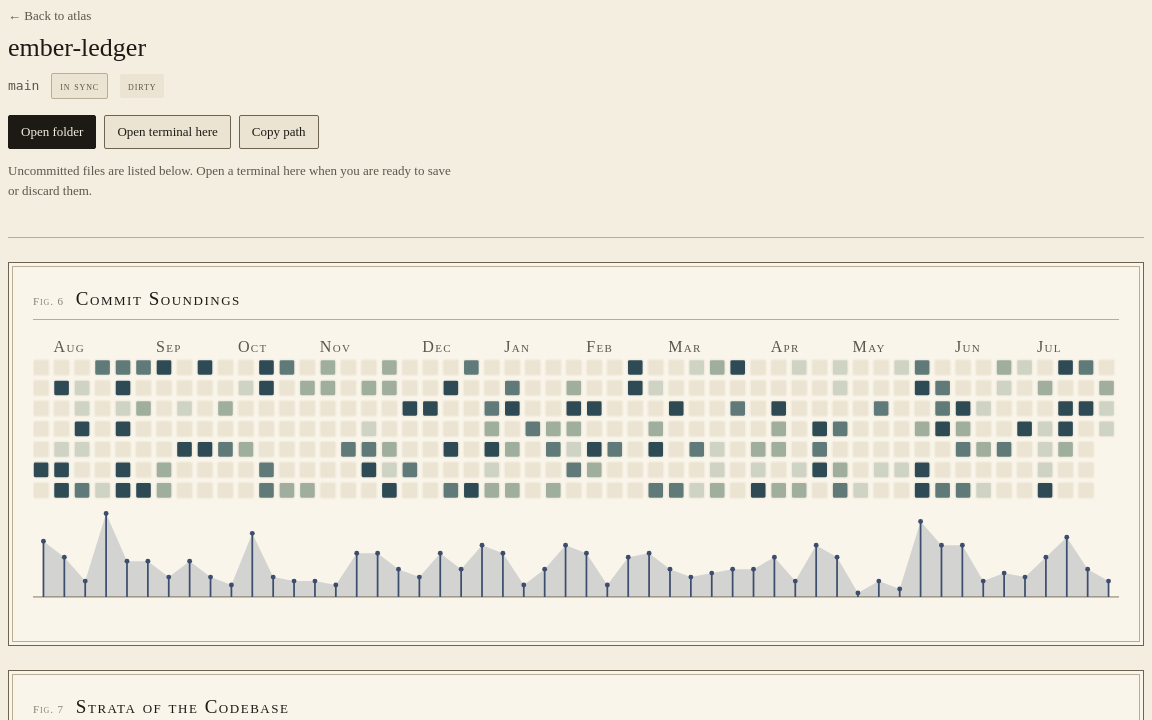
Test: RepoDetail › sends a tightly-scoped local request when opening a folder
Click the button "Open folder".
click(52, 132)  # box [8,115,96,149]
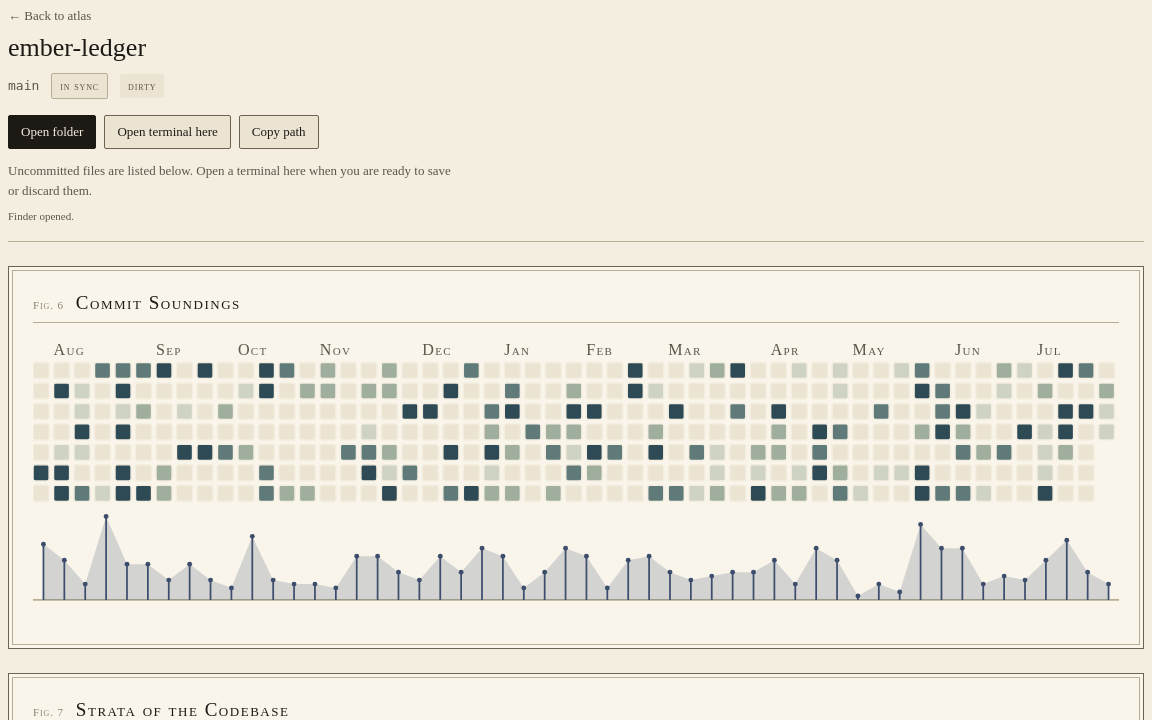
Result: the text "Finder opened." is shown at [8,210,74,222]
